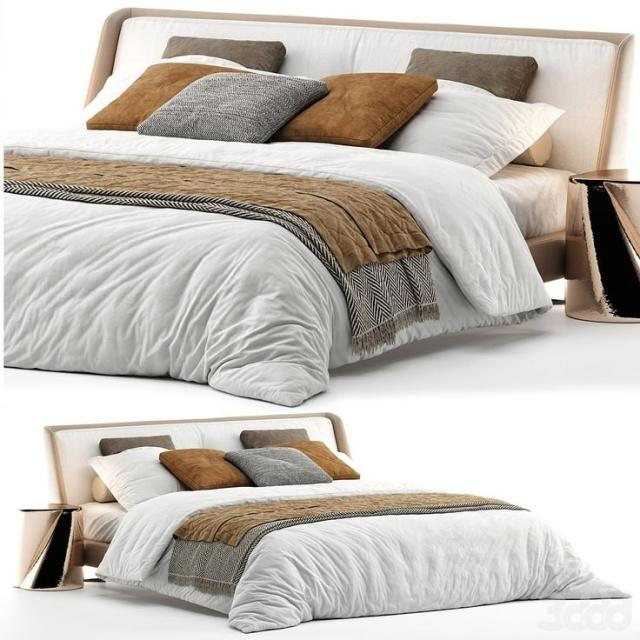obstacle: (1, 7, 634, 406), (42, 411, 632, 634)
